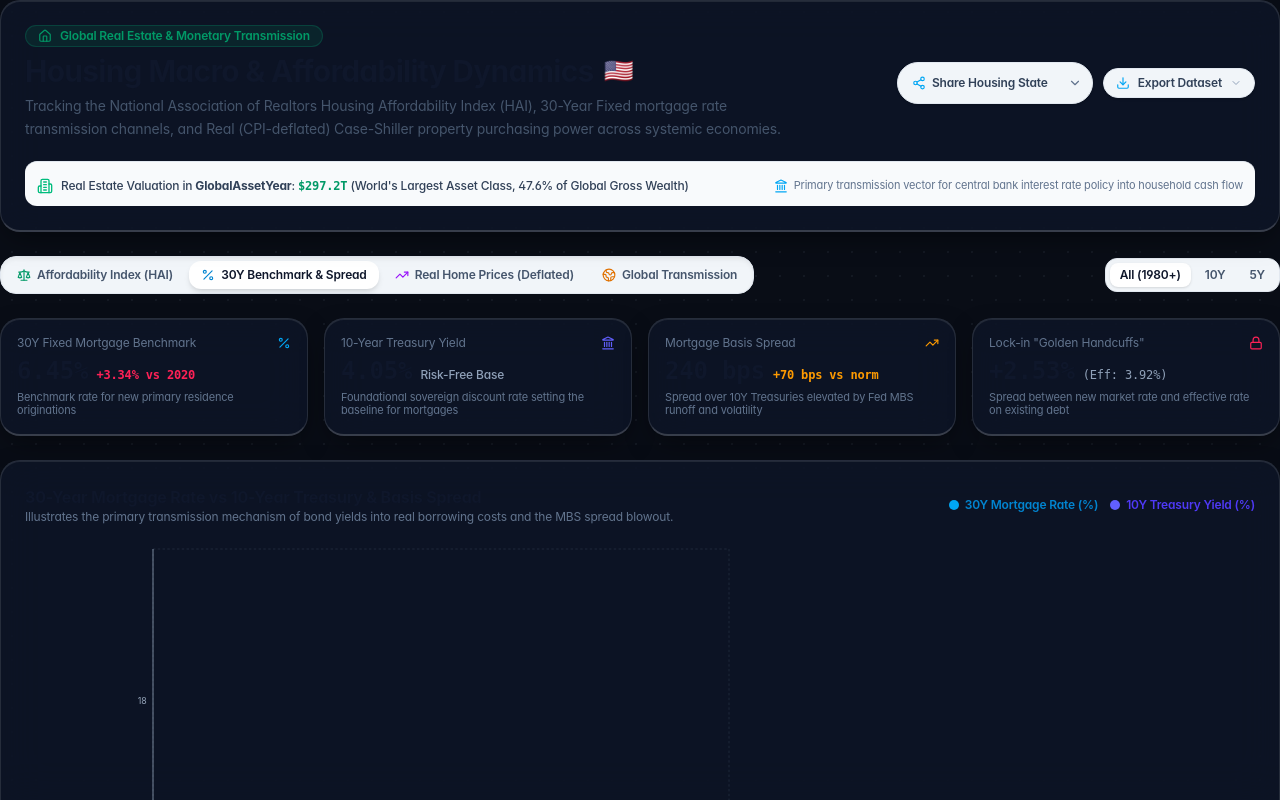
Scenario: HousingMacroRadar Component › switches to Real Home Prices (Deflated) view and renders nominal vs real comparisons
Click the button "Real Home Prices (Deflated)" at (484,274), box [383,260,586,288]
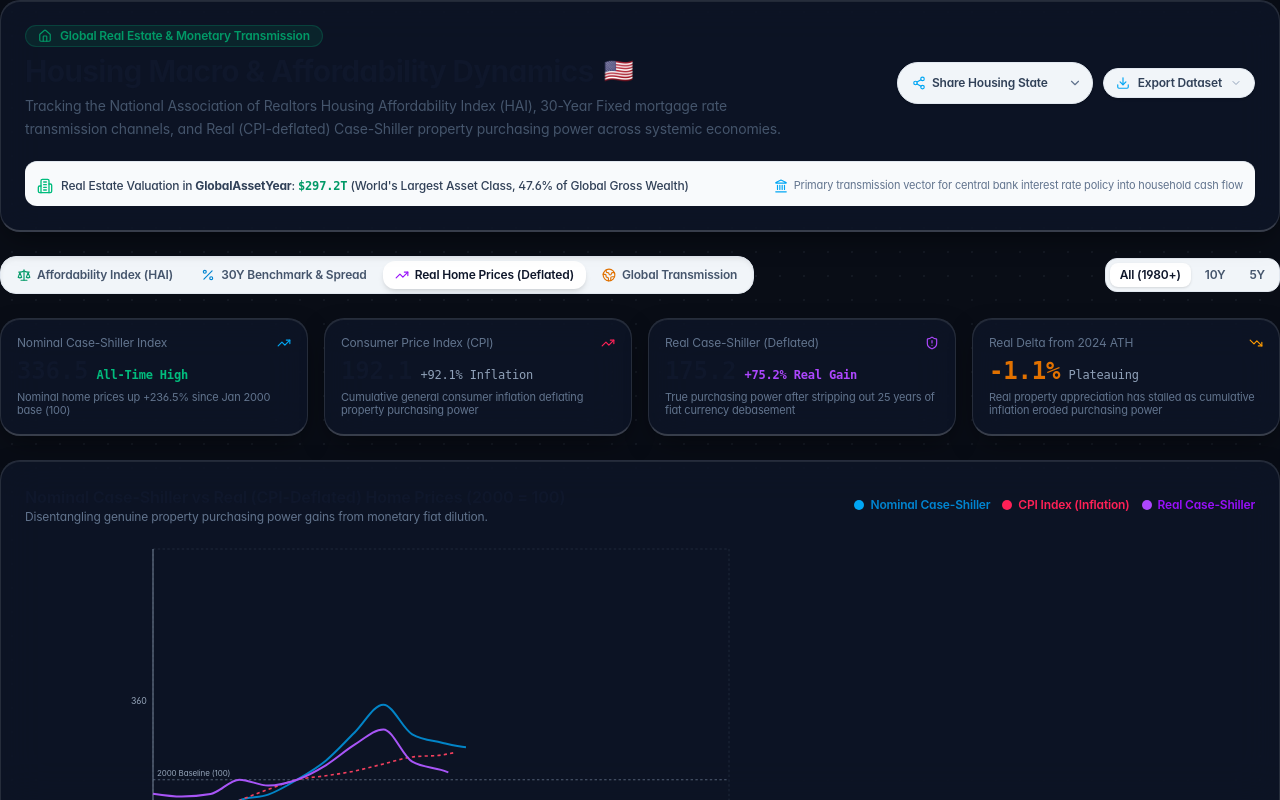
Check: the text "Nominal Case-Shiller Index" is shown, box [17,334,167,350]
Check: the text "Consumer Price Index (CPI)" is shown, box [341,334,494,350]
Check: the text "Real Case-Shiller (Deflated)" is shown, box [665,334,819,350]
